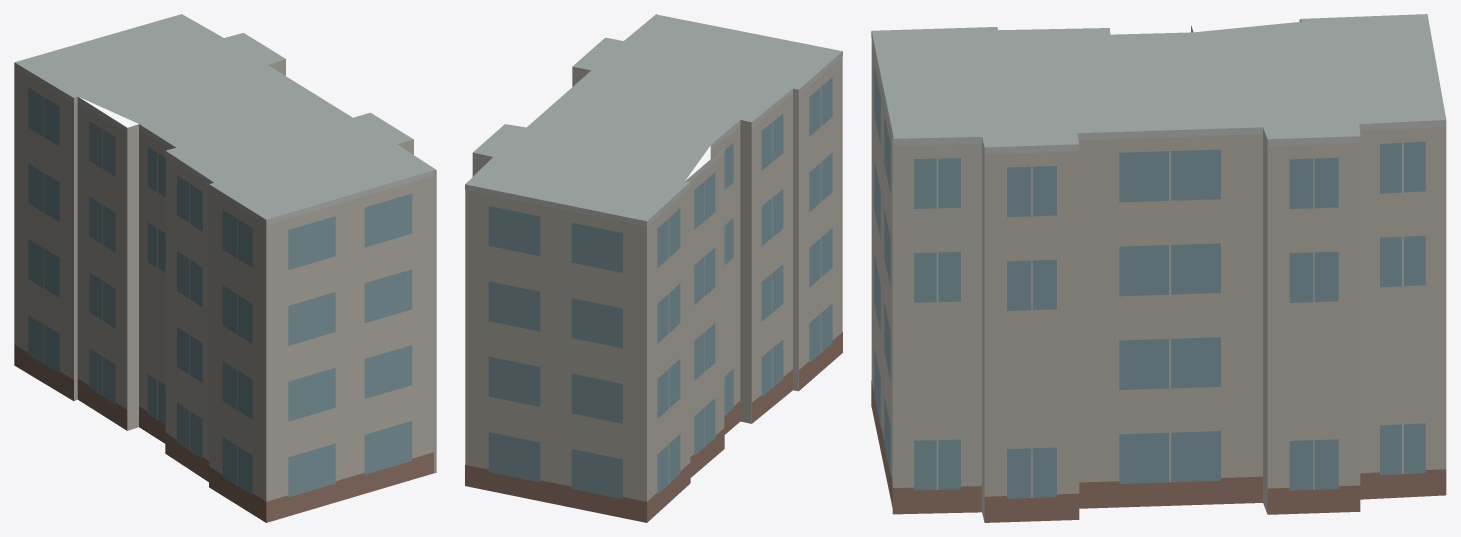
The model's file is survey-upis-32531479.glb.
The picture shows the model from 3 angles, left to right: view 1: azimuth 30°, elevation 25°; view 2: azimuth 150°, elevation 25°; view 3: azimuth 270°, elevation 25°; orthographic projection. The views are drawn at different scales.
Parts seen in each view (by area): view 1: survey-upis-32531479.tmp; view 2: survey-upis-32531479.tmp; view 3: survey-upis-32531479.tmp.
Boxes of the visible parts, x1,y1,x2,y2 form: survey-upis-32531479.tmp: (14, 14, 436, 522); survey-upis-32531479.tmp: (465, 14, 842, 522); survey-upis-32531479.tmp: (871, 14, 1446, 522).
Size of the model in its own units: 10.06 by 13.19 by 18.31.
